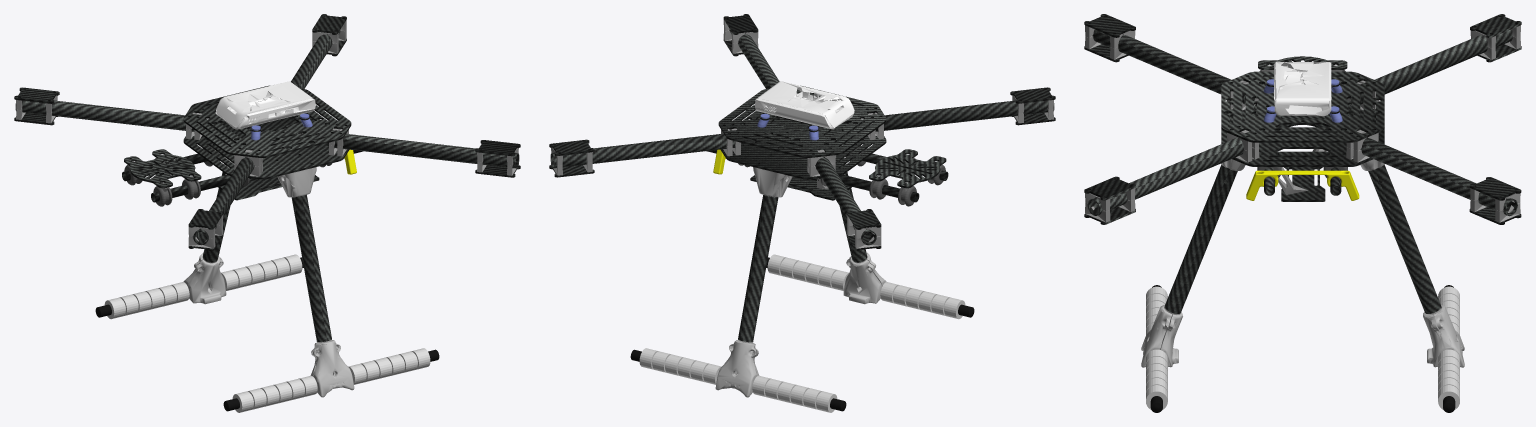
The model's file is x500_frame.dae.
The picture shows the model from 3 angles, left to right: view 1: azimuth 30°, elevation 25°; view 2: azimuth 150°, elevation 25°; view 3: azimuth 270°, elevation 25°; orthographic projection. The views are drawn at different scales.
Visible parts, largest first — view 1: CarbonFiber, LandingFoam, LandingPlastic, FMUK66, Metal, RailsRubber, LandingRubber; view 2: CarbonFiber, LandingFoam, LandingPlastic, FMUK66, Metal, RailsRubber, LandingRubber; view 3: CarbonFiber, Metal, LandingFoam, LandingPlastic, FMUK66, RailsAntennaHolder, FMURubber, LandingRubber.
Boxes of the visible parts, x1=… form: CarbonFiber: x1=14, y1=14, x2=520, y2=342; LandingFoam: x1=104, y1=254, x2=430, y2=412; LandingPlastic: x1=183, y1=144, x2=354, y2=397; FMUK66: x1=215, y1=81, x2=315, y2=129; Metal: x1=16, y1=20, x2=518, y2=248; RailsRubber: x1=124, y1=133, x2=332, y2=206; LandingRubber: x1=95, y1=257, x2=439, y2=411; CarbonFiber: x1=549, y1=14, x2=1055, y2=342; LandingFoam: x1=639, y1=254, x2=965, y2=412; LandingPlastic: x1=715, y1=144, x2=886, y2=397; FMUK66: x1=754, y1=81, x2=854, y2=129; Metal: x1=551, y1=20, x2=1053, y2=248; RailsRubber: x1=738, y1=133, x2=945, y2=206; LandingRubber: x1=630, y1=257, x2=974, y2=411; CarbonFiber: x1=1084, y1=14, x2=1521, y2=313; Metal: x1=1085, y1=25, x2=1520, y2=222; LandingFoam: x1=1146, y1=286, x2=1459, y2=409; LandingPlastic: x1=1141, y1=159, x2=1464, y2=367; FMUK66: x1=1274, y1=61, x2=1331, y2=116; RailsAntennaHolder: x1=1246, y1=170, x2=1359, y2=200; FMURubber: x1=1263, y1=79, x2=1342, y2=122; LandingRubber: x1=1150, y1=285, x2=1455, y2=412.
Size of the model in its own units: 0.3957 by 0.396 by 0.2794.
Materials: 9 (1 with a texture image).
